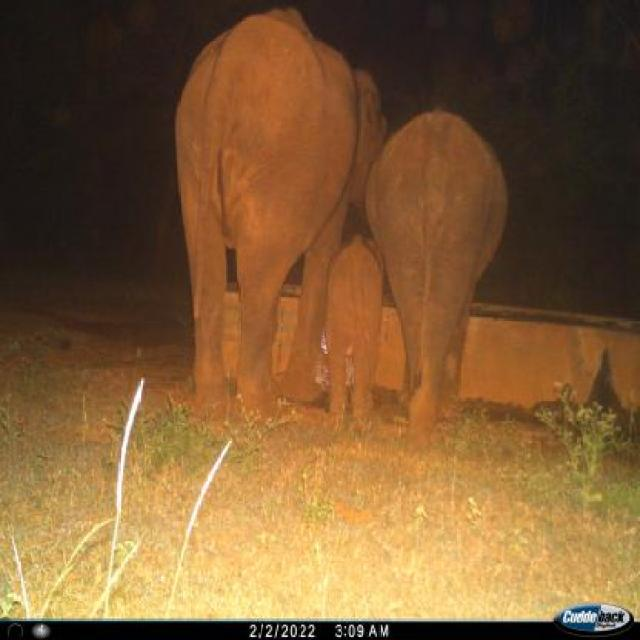Elephant: (172, 10, 388, 428), (353, 103, 510, 440)
